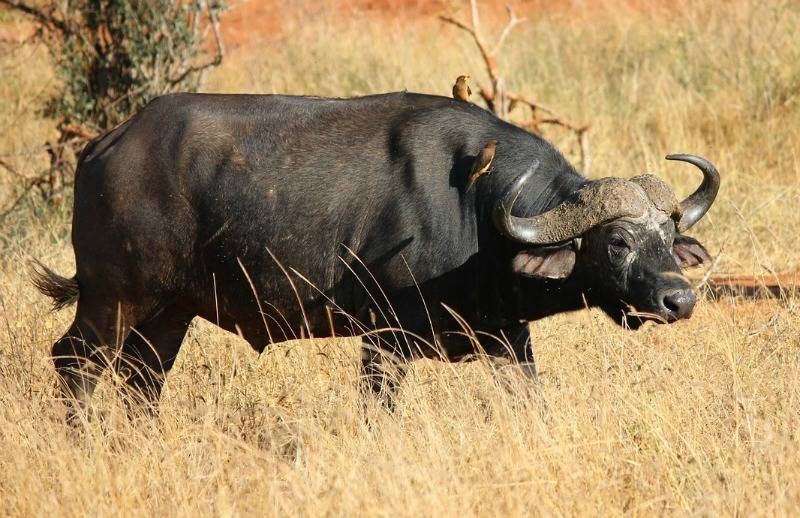buffalo: (31, 92, 723, 441)
